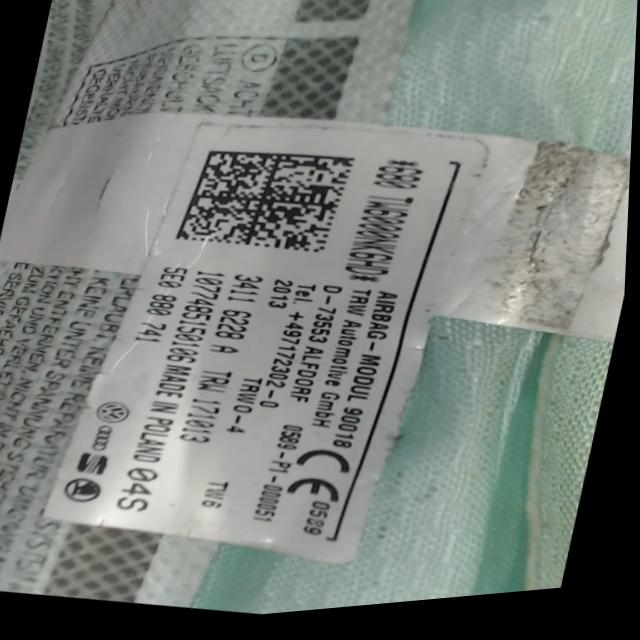datamatrix: (176, 137, 358, 273)
